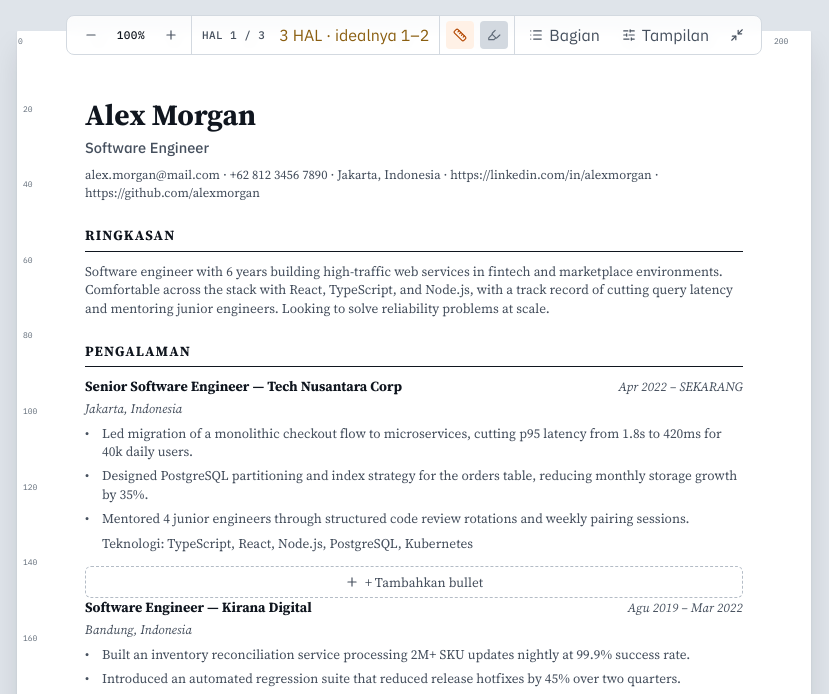
editor in-place di atas kertas (C3.1) › Escape membatalkan sesi: draft dibuang, dokumen tidak berubah, fokus ke pemicu
Click the button "Alex Morgan" at (171, 116), box [85,99,256,133]
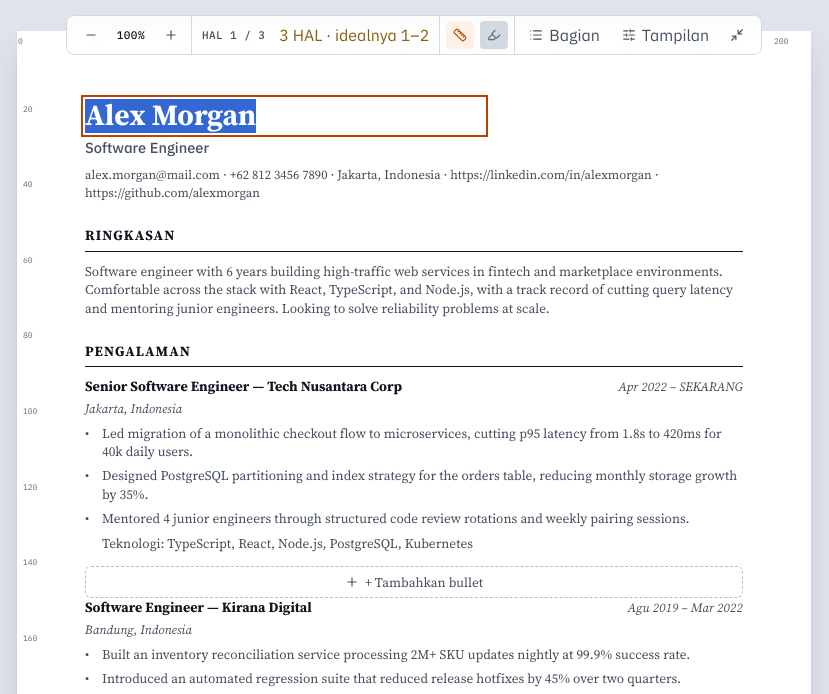
Replace the text in the field with class "canvas-editor" with "Budi" at (284, 116), box [85,99,484,133]
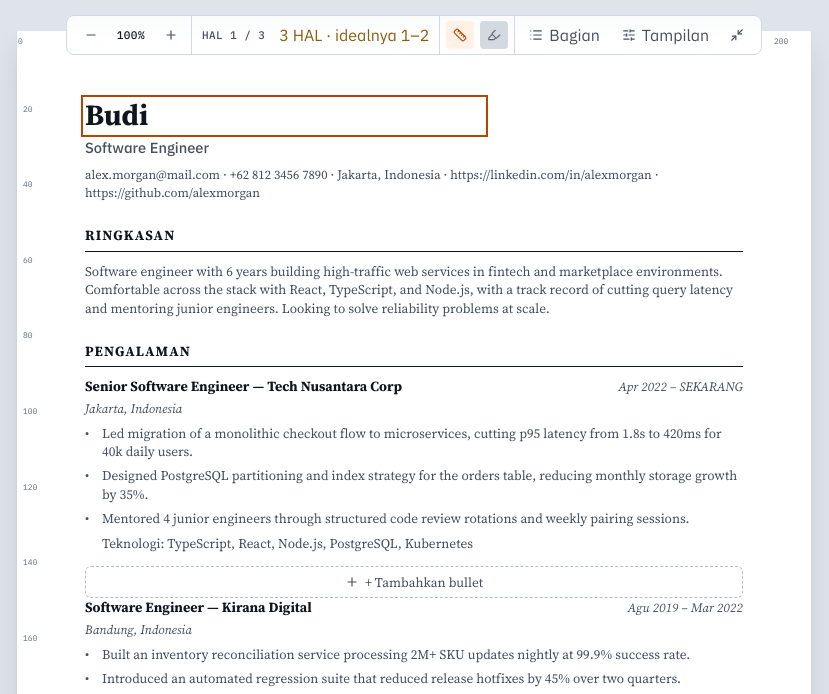
Press Escape
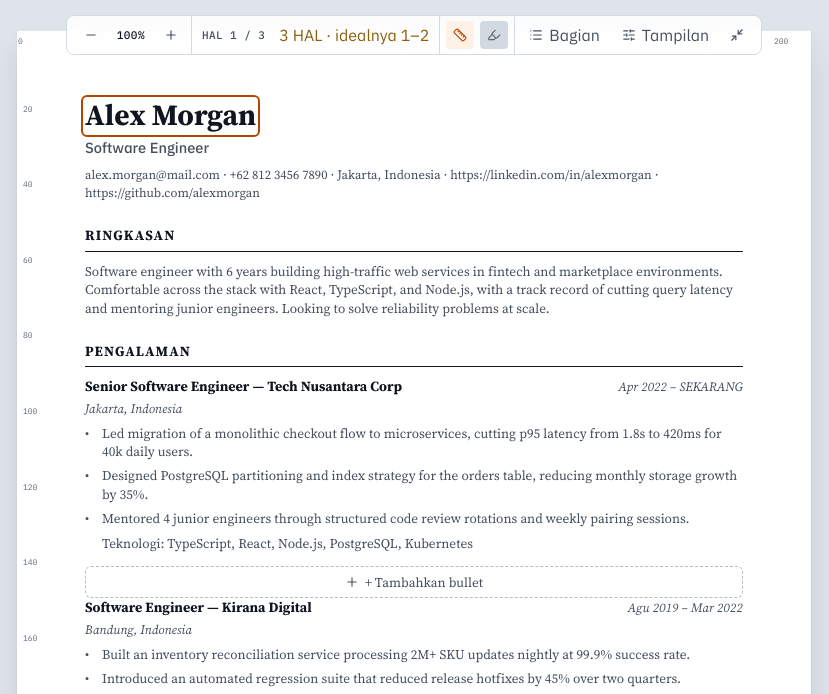
expect the button "Alex Morgan" is shown: met, box [85,99,256,133]
